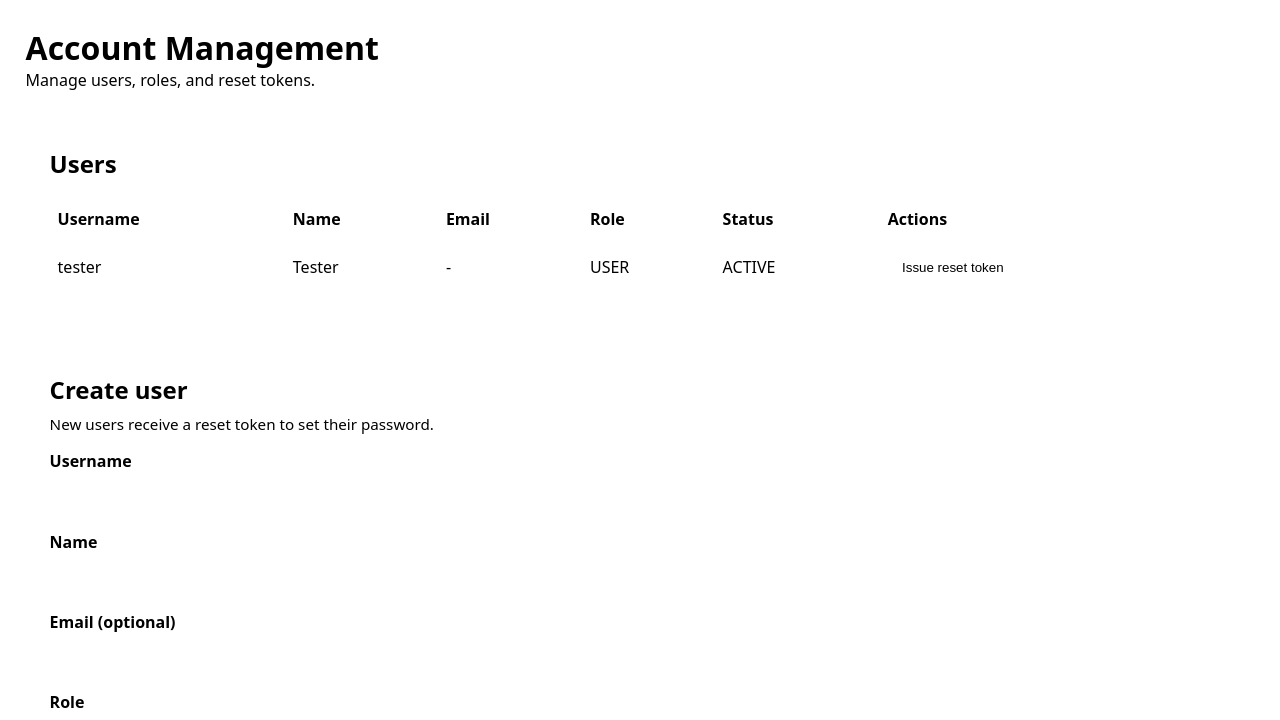
AdminAccountsPage › issues reset token from user list
expect the text "tester" is shown: met, box [50,242,285,293]
Click the button "Issue reset token": (953, 268) [888,254,1018,281]
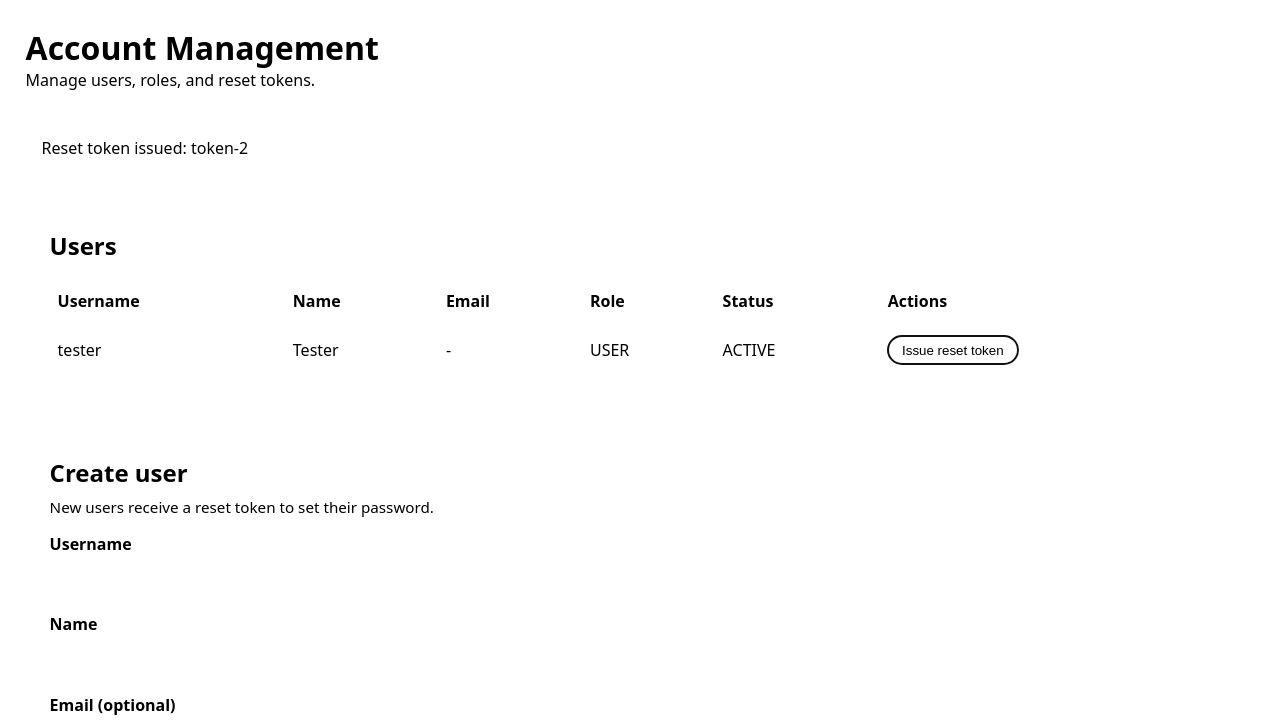
expect the text "Reset token issued: token-2" is shown: met, box [42,137,248,159]
